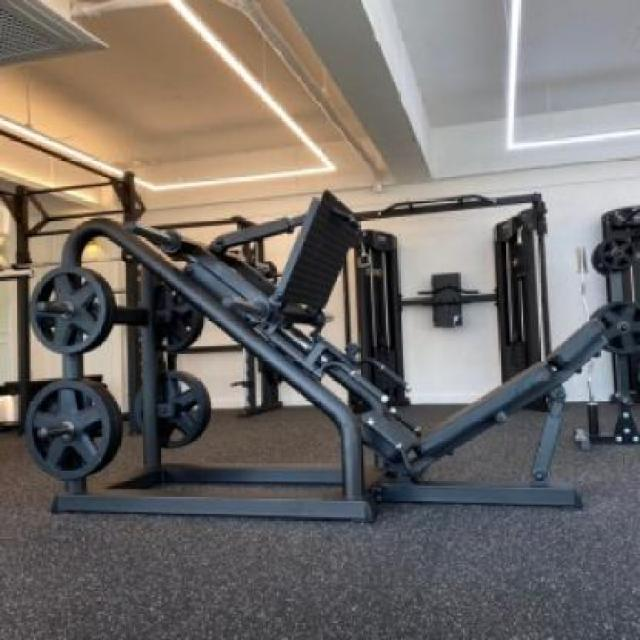leg press: (12, 162, 626, 544)
